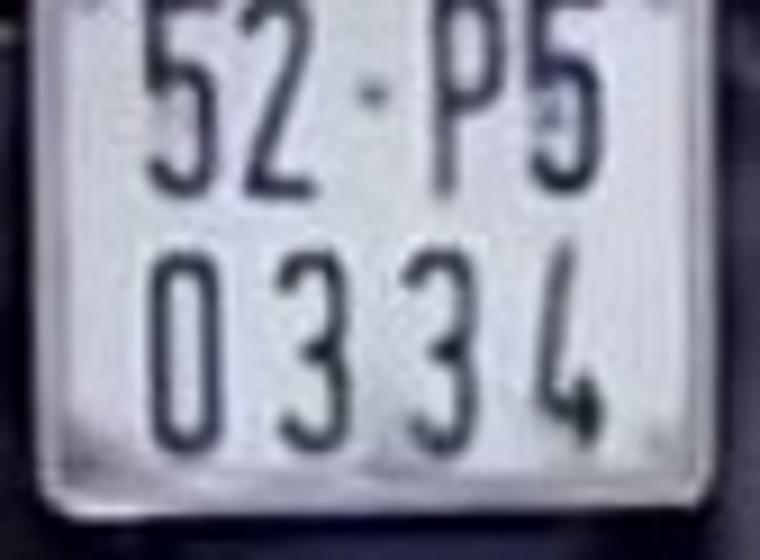-: (349, 78, 407, 115)
0: (143, 245, 228, 465)
2: (238, 0, 329, 203)
3: (390, 246, 487, 458), (272, 246, 362, 457)
4: (526, 239, 623, 457)
5: (132, 0, 231, 200), (524, 0, 611, 194)
P: (419, 0, 511, 192)
